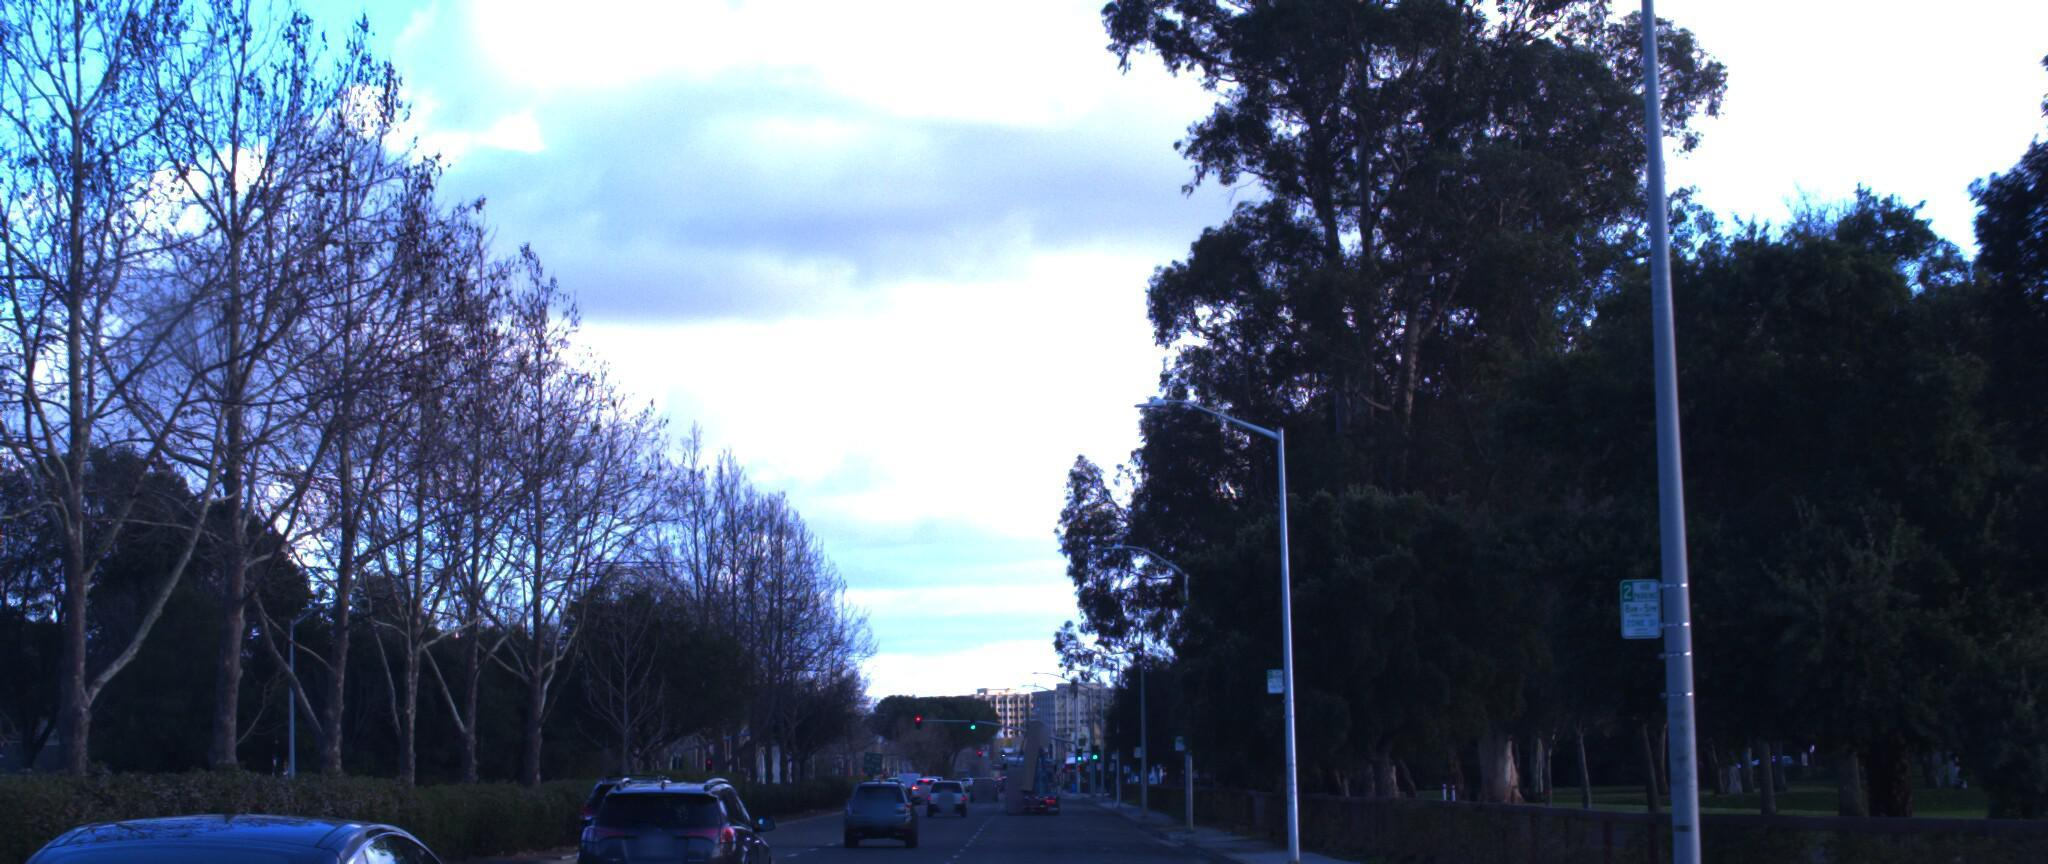car: (0, 794, 560, 864), (573, 760, 785, 864), (846, 764, 927, 827)
